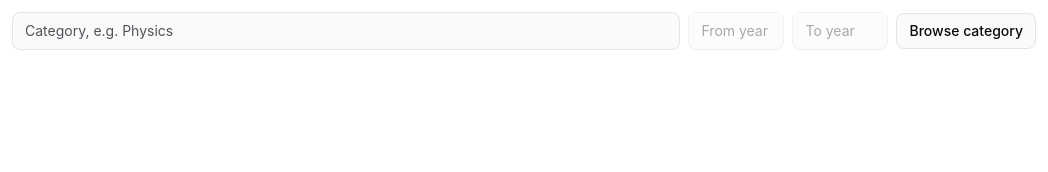
it: CategoryFilter › disables the year fields until a category is typed
Expected: the field labelled "From year" is disabled, [688,12,784,50]
Expected: the field labelled "To year" is disabled, [792,12,888,50]
Type "Physics" into the field labelled "Category".
click(346, 31); type("Physics")  # box [12,12,680,50]
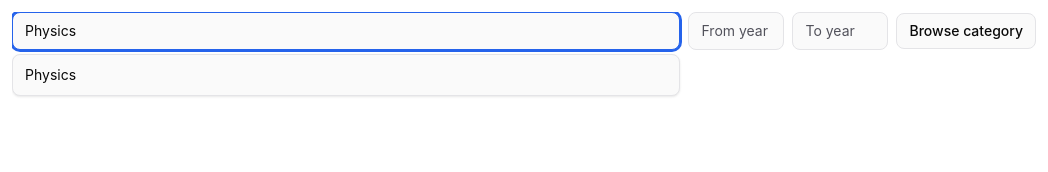
Expected: the field labelled "From year" is enabled, [688,12,784,50]
Expected: the field labelled "To year" is enabled, [792,12,888,50]
